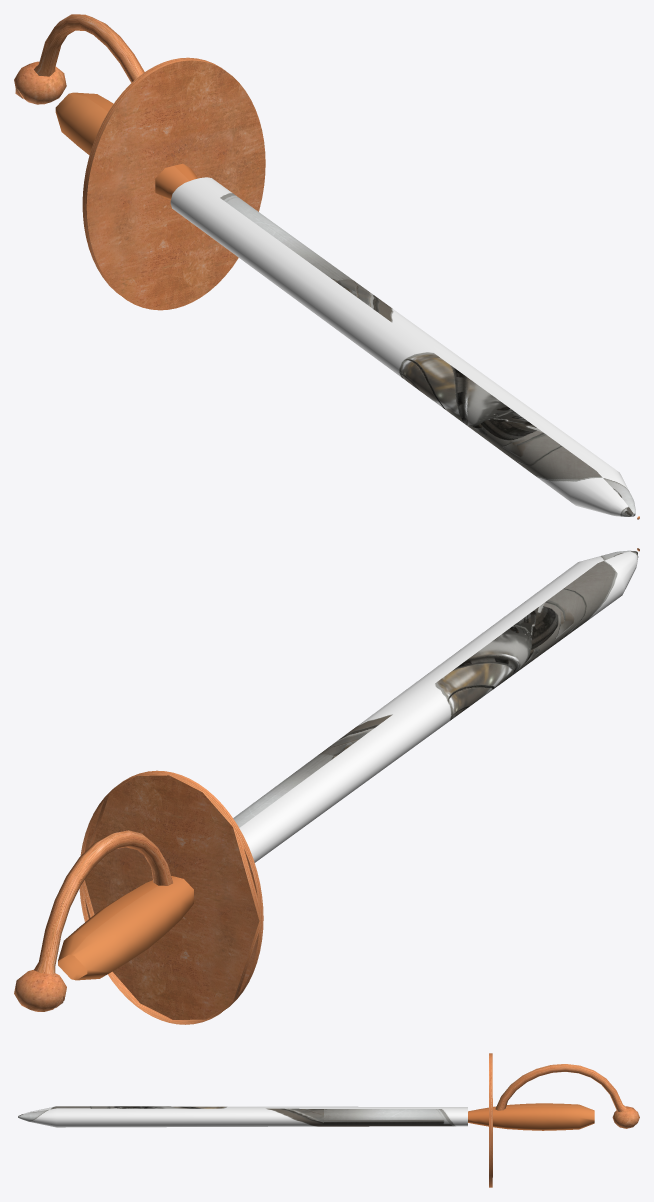
Rendered from sword1.obj.
3 views of the same model, one above another, from view 1: azimuth 30°, elevation 25°; view 2: azimuth 150°, elevation 25°; view 3: azimuth 270°, elevation 25° (orthographic). The views are drawn at different scales.
Bounding box in the file's own units: 0.0983 × 0.1288 × 0.578.
Materials: 3 (3 with a texture image).
